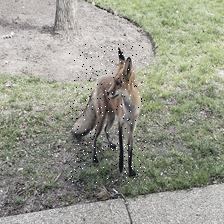fox: (68, 44, 145, 184)
